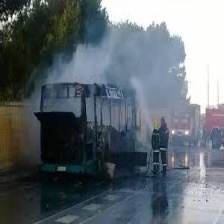smoke: (125, 49, 182, 110), (52, 56, 104, 82)
